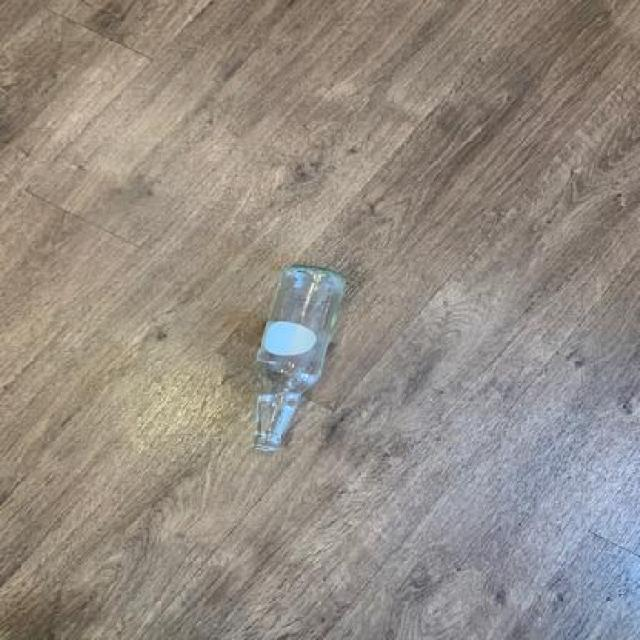trash: (242, 264, 353, 456)
